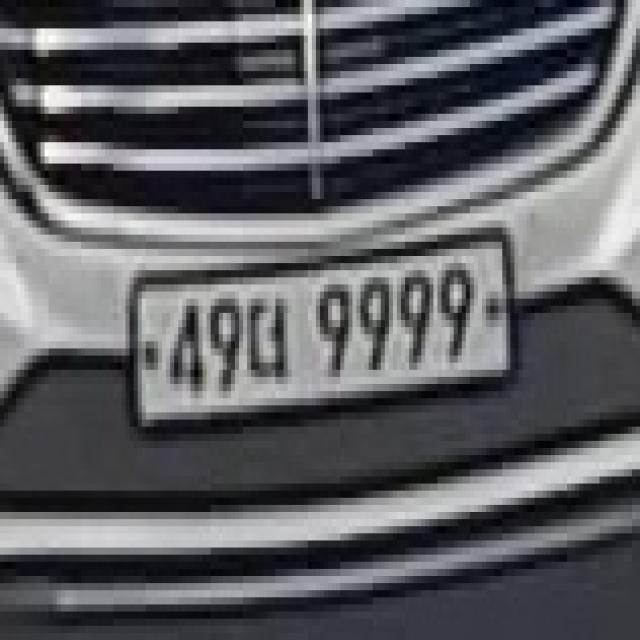4: (164, 294, 207, 406)
9: (310, 278, 354, 388), (438, 262, 474, 368), (358, 275, 394, 380), (210, 294, 243, 401), (399, 272, 434, 372)
deo: (246, 290, 293, 390)
license_plate: (125, 203, 534, 456)
